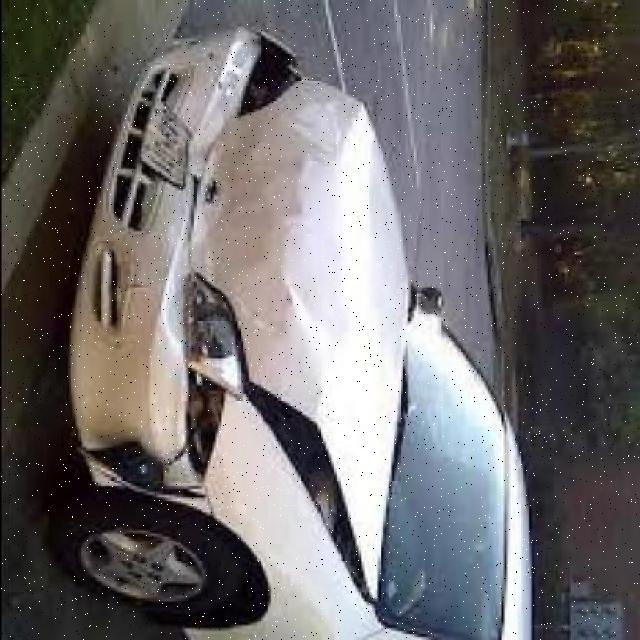damage: (86, 29, 362, 600)
